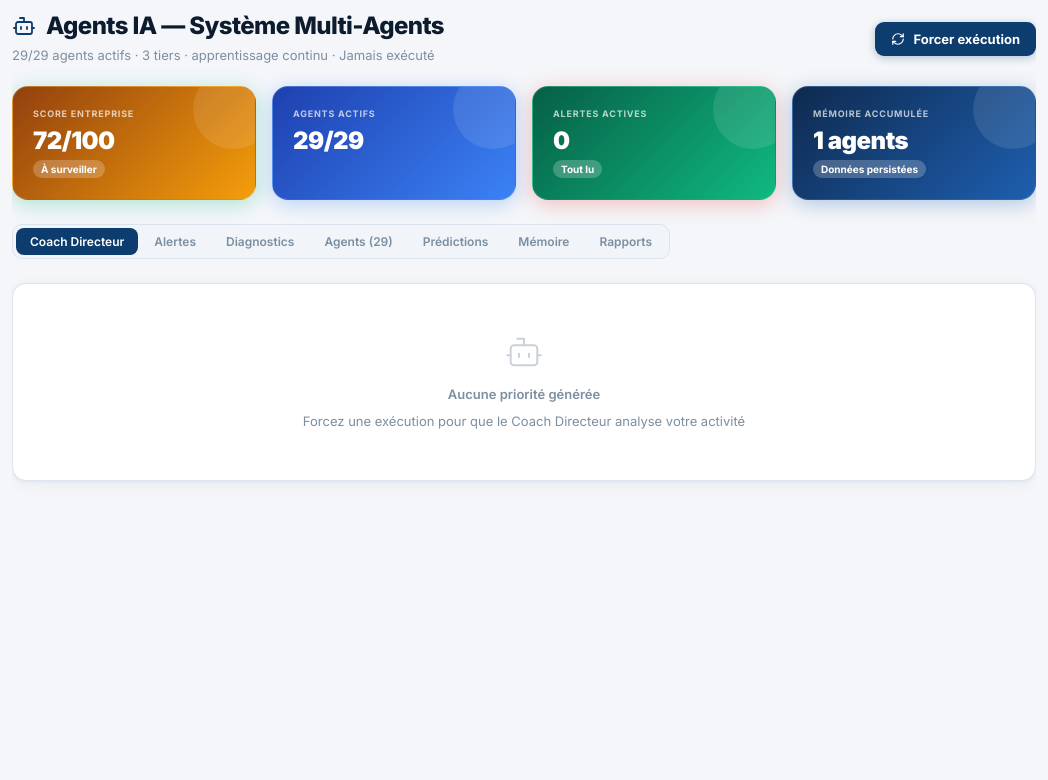
it: SOUS-ONGLET MÉMOIRE — bandeau + patterns + cartes agent › affiche le bandeau, le tableau patterns et les cartes par agent
Click the button "Mémoire": (544, 242) [504,228,583,255]
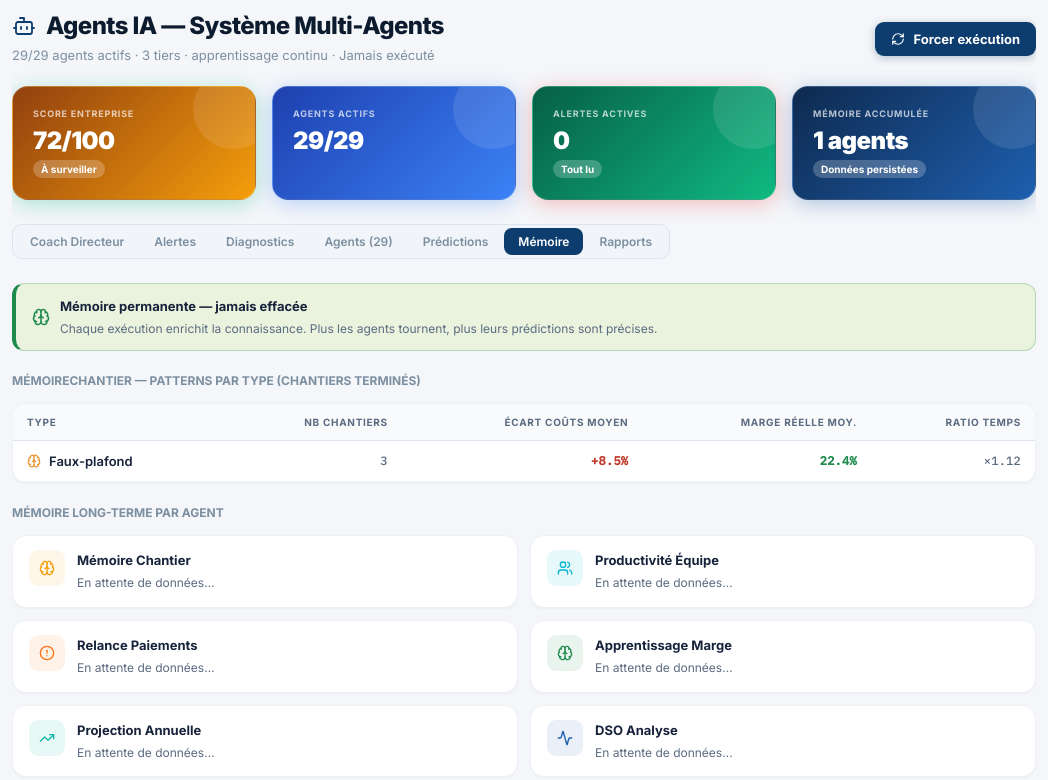
Result: the text "Mémoire permanente — jamais effacée" is shown at [60,298,308,314]
Result: the text "MémoireChantier — Patterns par type (chantiers terminés)" is shown at [12,373,421,388]
Result: the text "Faux-plafond" is shown at [49,450,133,471]
